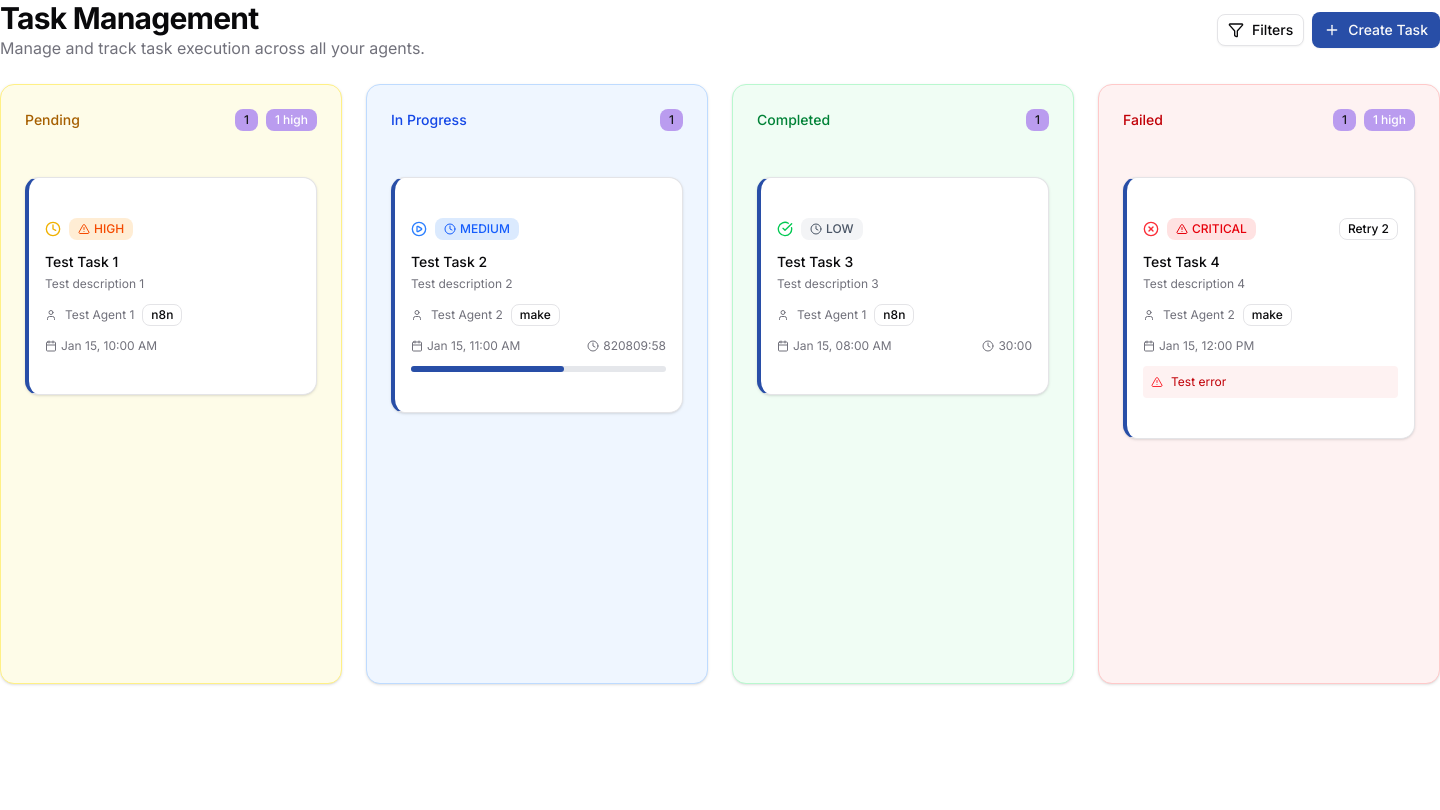
it: TaskBoard › clears filters when clear button is clicked
// Open filters and apply a filter
Click the button "Filters": (1261, 30) [1217,14,1304,46]
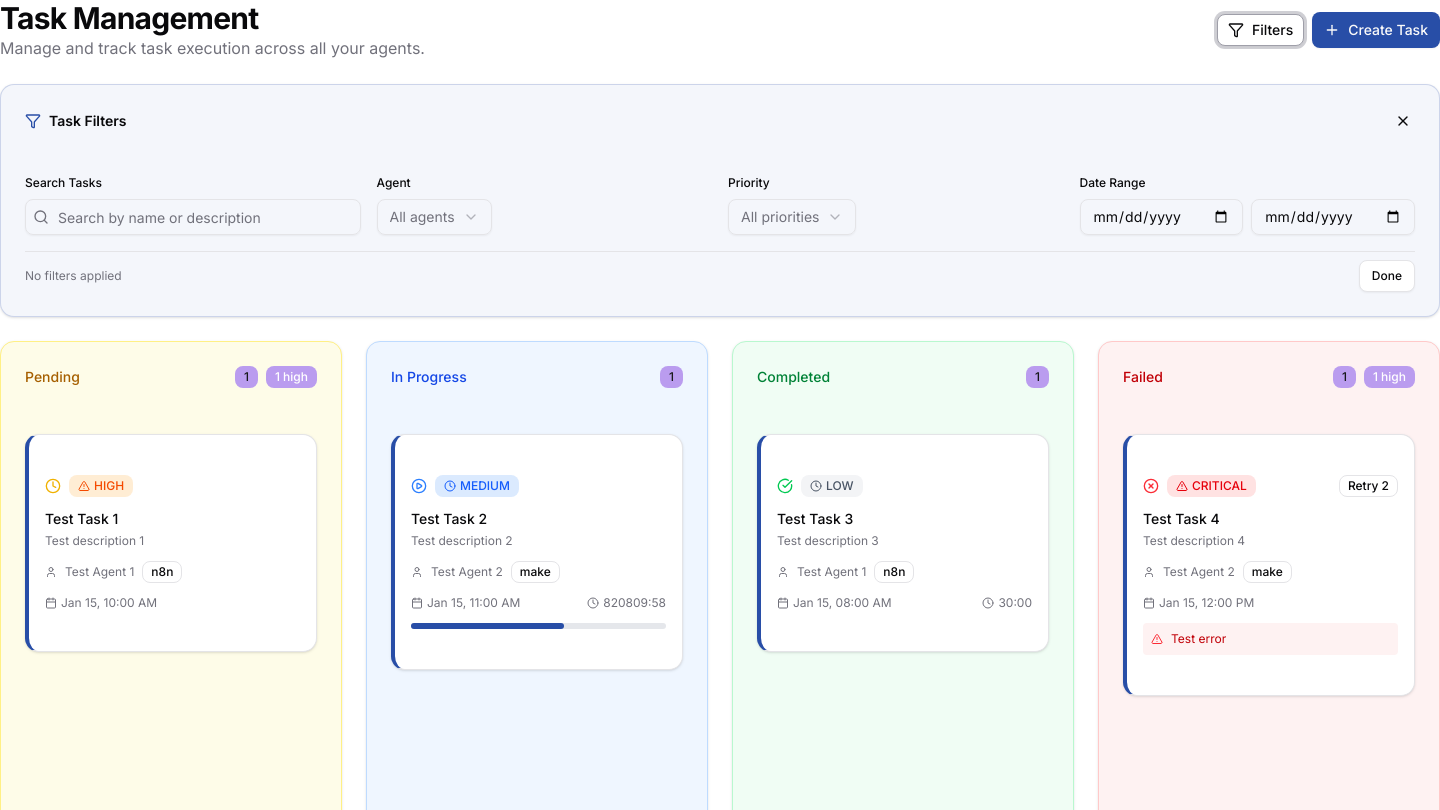
In the field with placeholder "Search by name or description": (193, 217) [25,199,360,235], type "test"
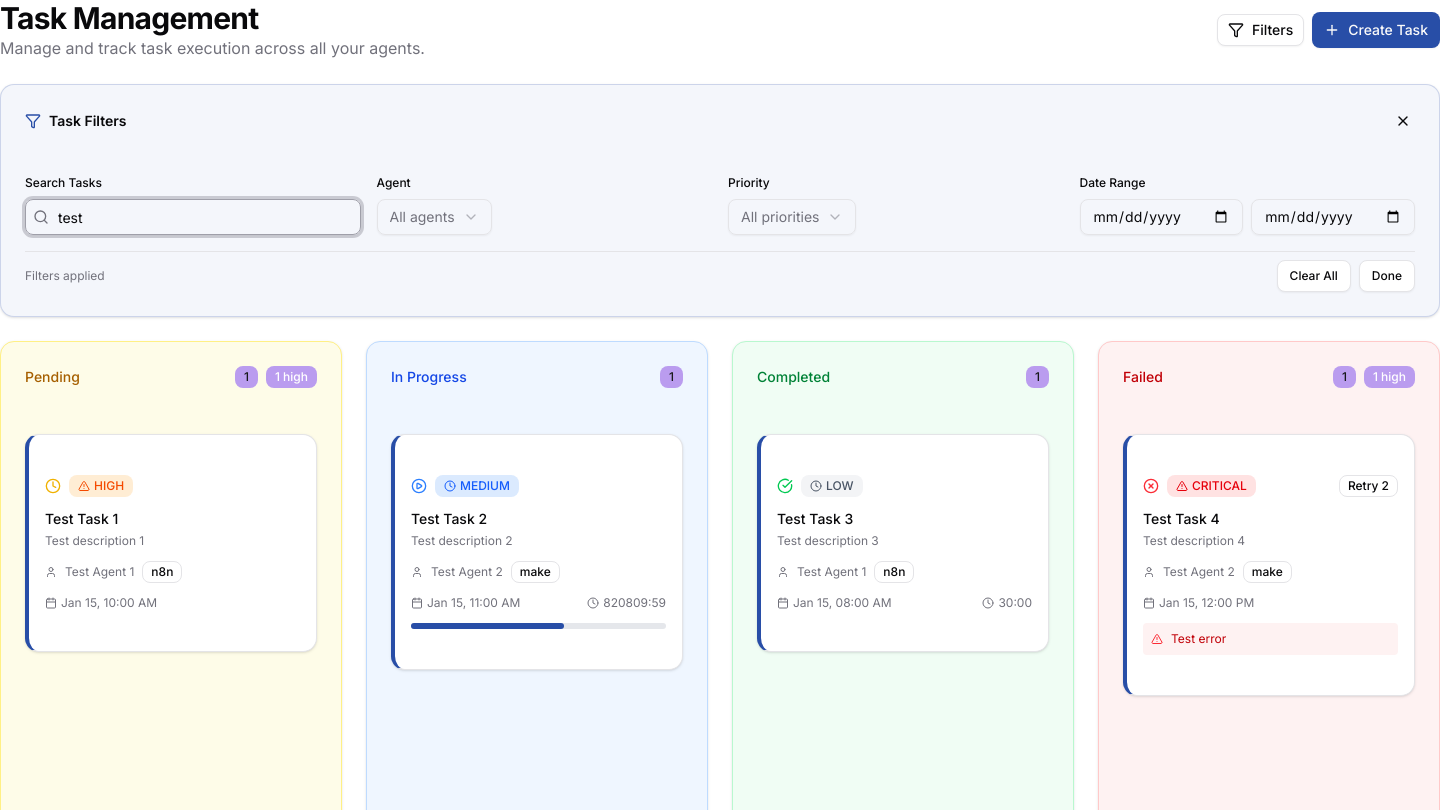
// Clear filters
Click the button "Clear All": (1314, 276) [1277,260,1351,292]
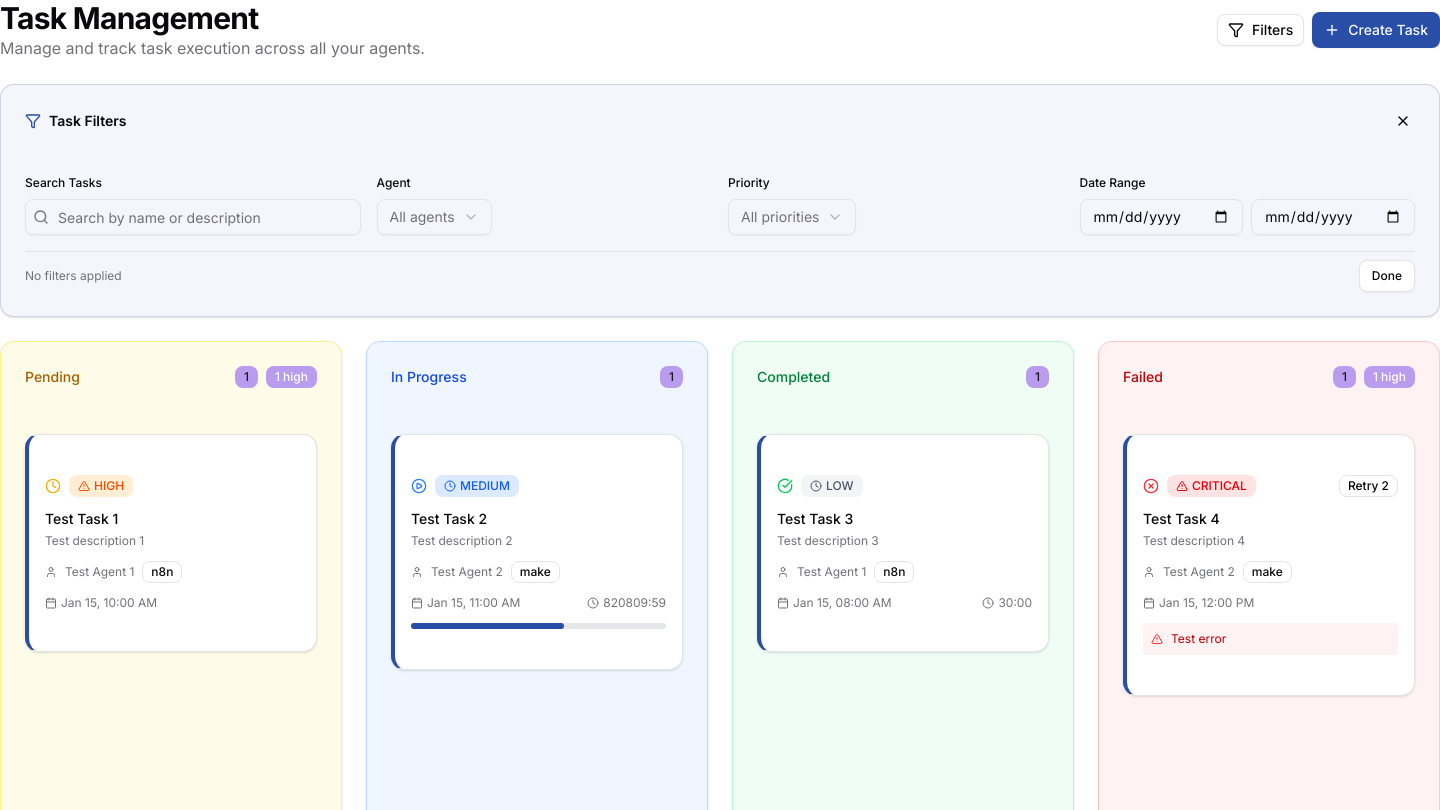
Check: the field with placeholder "Search by name or description" is empty, box [25,199,360,235]
